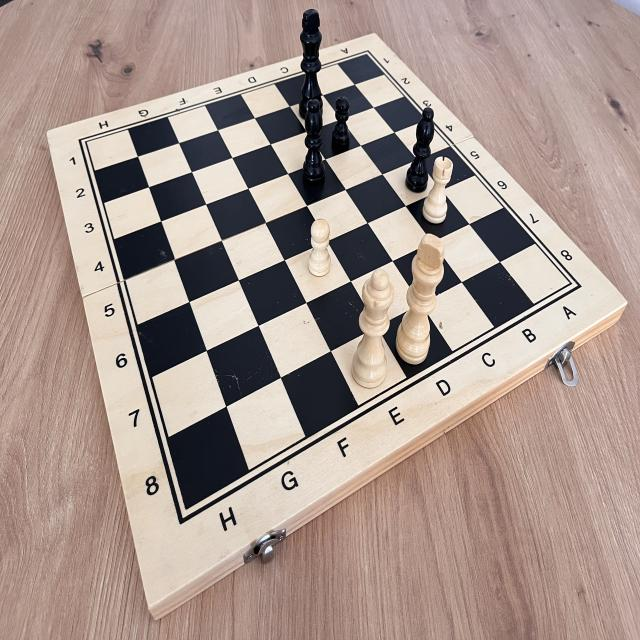black-bishop: (292, 96, 328, 192), (402, 100, 438, 195)
black-king: (291, 3, 330, 128)
black-pawn: (325, 92, 358, 155)
white-king: (392, 232, 450, 374)
white-pawn: (304, 213, 334, 282)
white-queen: (346, 256, 397, 395)
white-rook: (418, 149, 457, 232)
